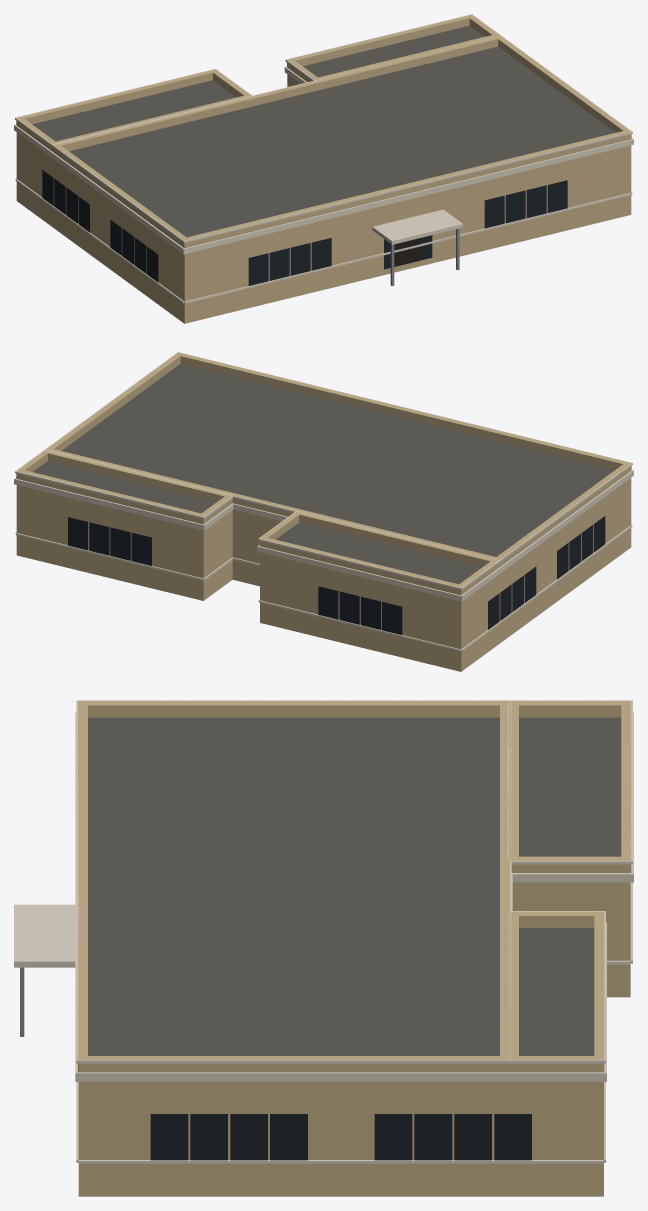
Rendered from east-end-school-1961.glb.
3 views of the same model, one above another, from view 1: azimuth 30°, elevation 25°; view 2: azimuth 150°, elevation 25°; view 3: azimuth 270°, elevation 25° (orthographic). The views are drawn at different scales.
Parts seen in each view (by area): view 1: kit-east-end-school-1961; view 2: kit-east-end-school-1961; view 3: kit-east-end-school-1961.
Boxes of the visible parts, x1,y1,x2,y2 form: kit-east-end-school-1961: (14, 14, 633, 323); kit-east-end-school-1961: (14, 352, 633, 671); kit-east-end-school-1961: (14, 700, 633, 1196).
Bounding box in the file's own units: 31.74 × 5.6 × 23.02.
